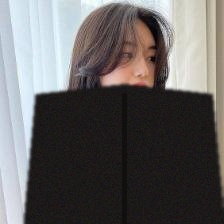Cadar_Niqab: (23, 1, 224, 224)
